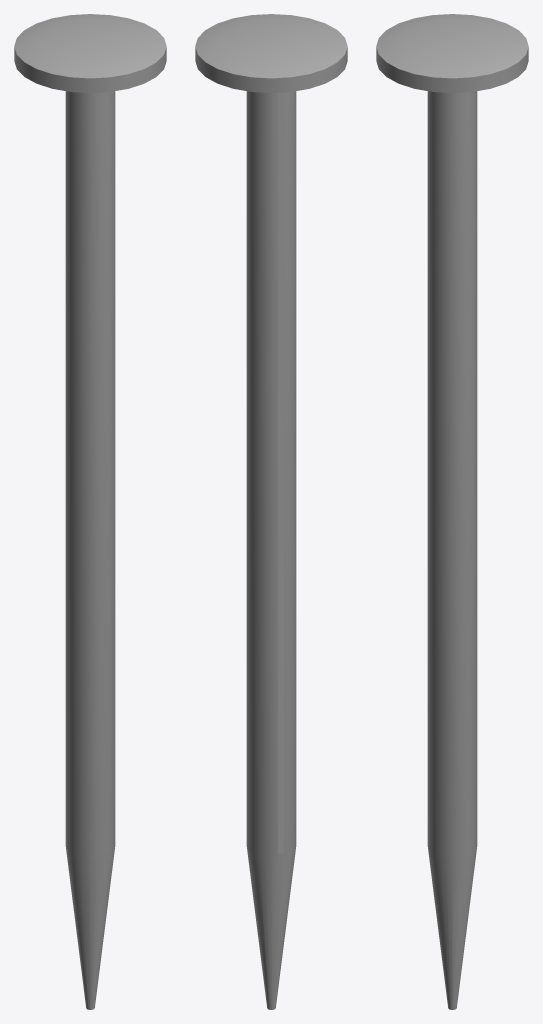
The model's file is Nails.dae.
The picture shows the model from 3 angles, left to right: view 1: azimuth 30°, elevation 25°; view 2: azimuth 150°, elevation 25°; view 3: azimuth 270°, elevation 25°; orthographic projection.
Visible parts, largest first — view 1: Nail; view 2: Nail; view 3: Nail.
Boxes of the visible parts, x1,y1,x2,y2 form: Nail: (14,14,166,1009); Nail: (195,14,347,1009); Nail: (376,14,528,1009).
Bounding box in the file's own units: 1.12 × 7.8 × 1.12.
1 material, 1 textured.
